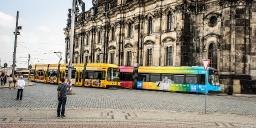bus: (119, 65, 223, 95), (29, 63, 121, 89)
person: (54, 77, 71, 117), (17, 77, 25, 100), (7, 74, 13, 88), (12, 74, 18, 87)
